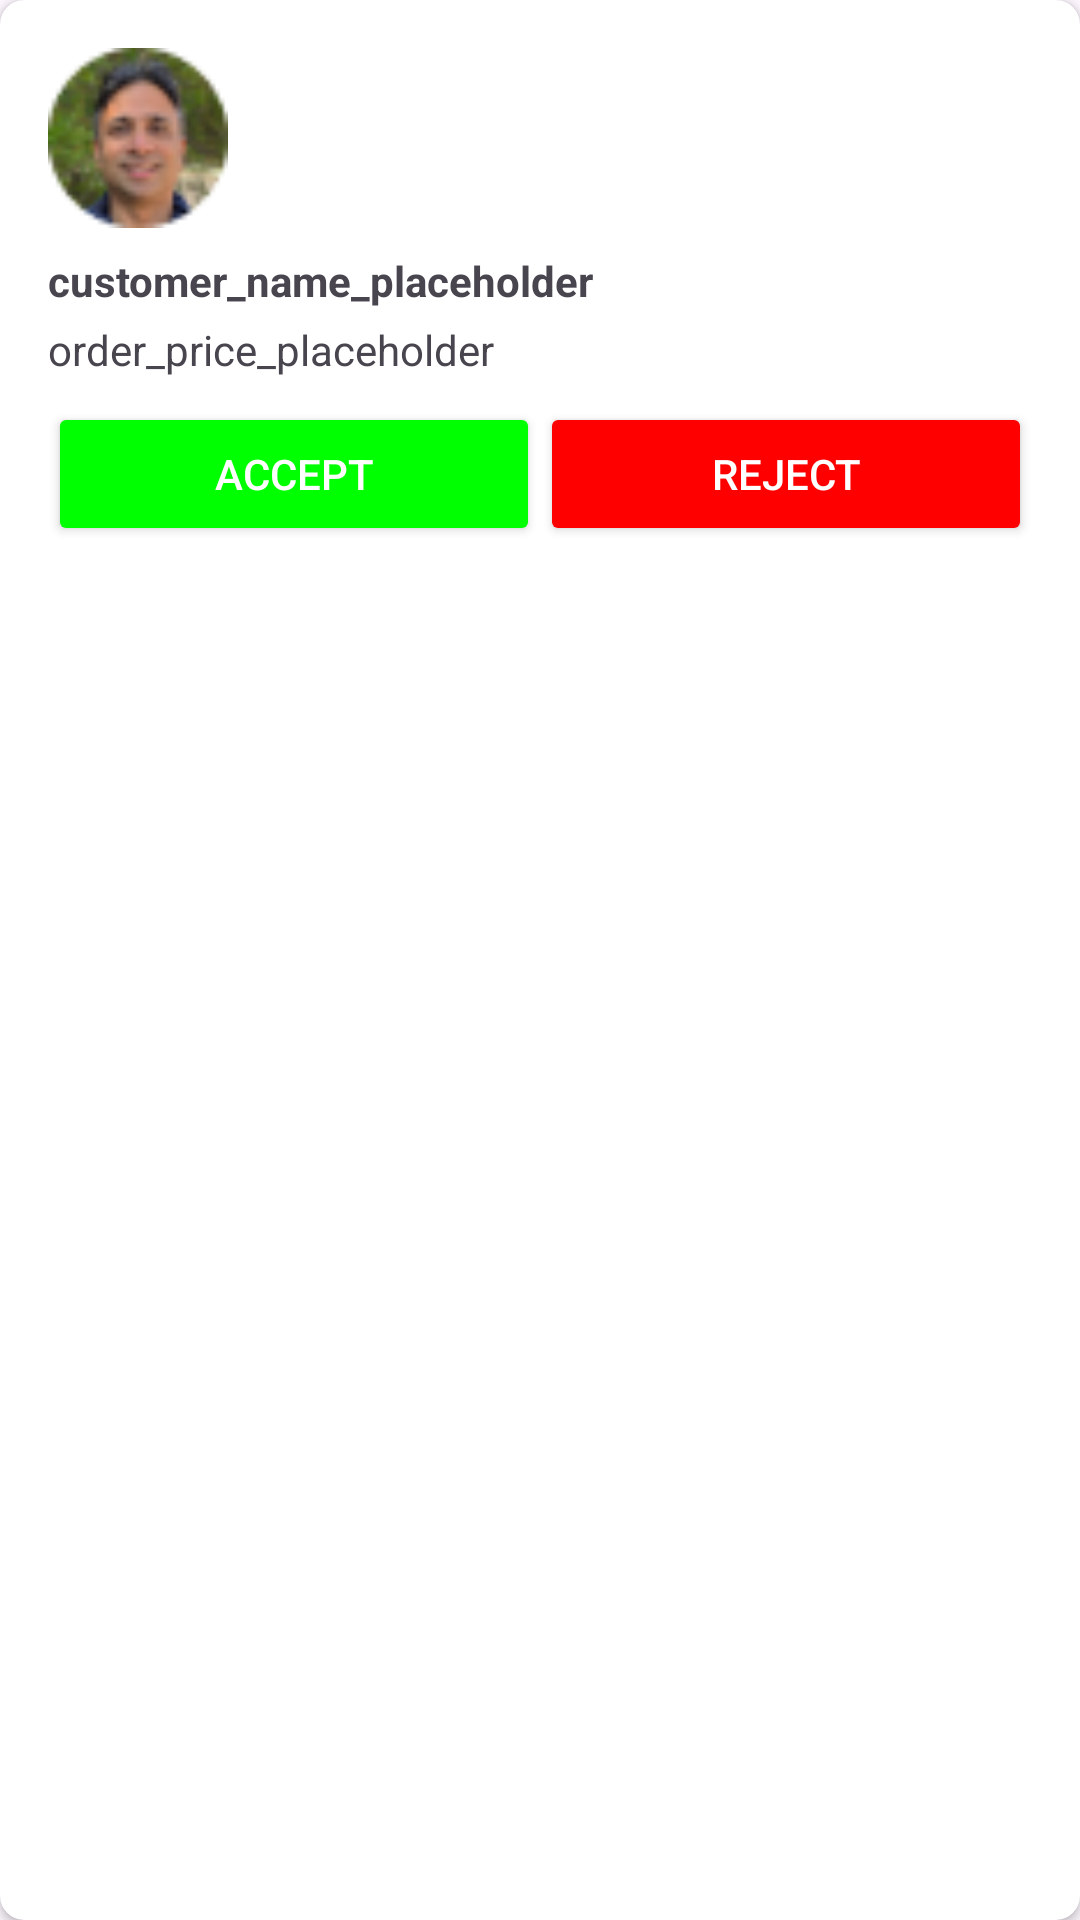

Screen size 1080*1920. Icon name, then its center in pixels as (x=x, y=y):
profile: (x=138, y=138)
